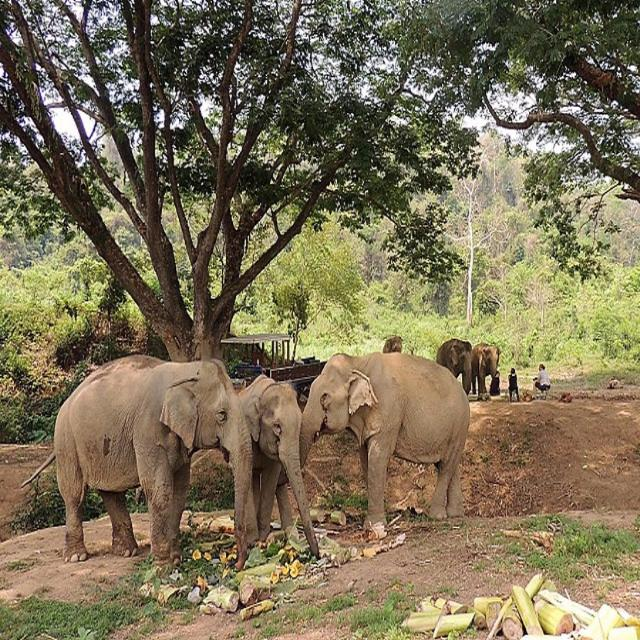Elephant: (40, 337, 254, 588), (304, 332, 483, 552), (233, 368, 314, 580), (430, 332, 511, 405)
